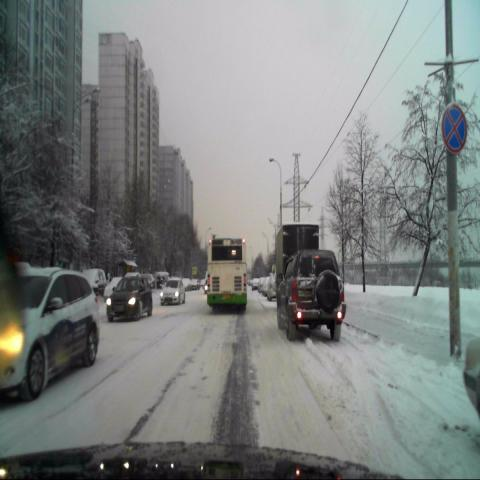3_27: (440, 100, 468, 153)
